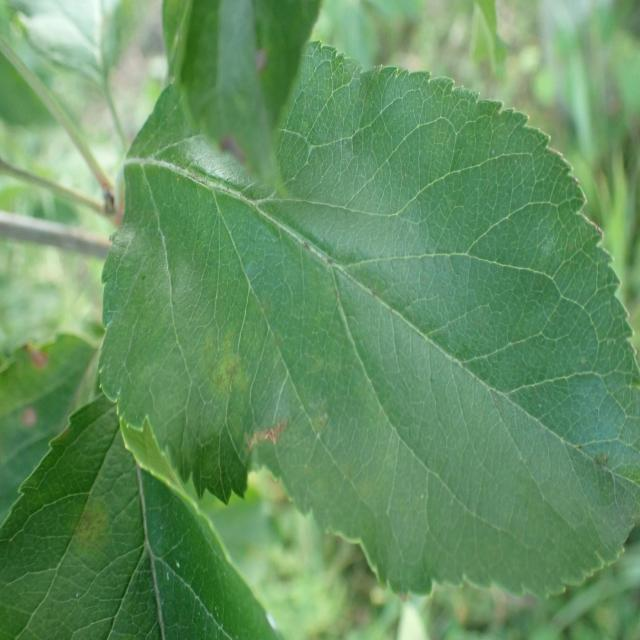scab: (126, 114, 408, 514), (531, 378, 617, 540), (58, 482, 121, 617)
